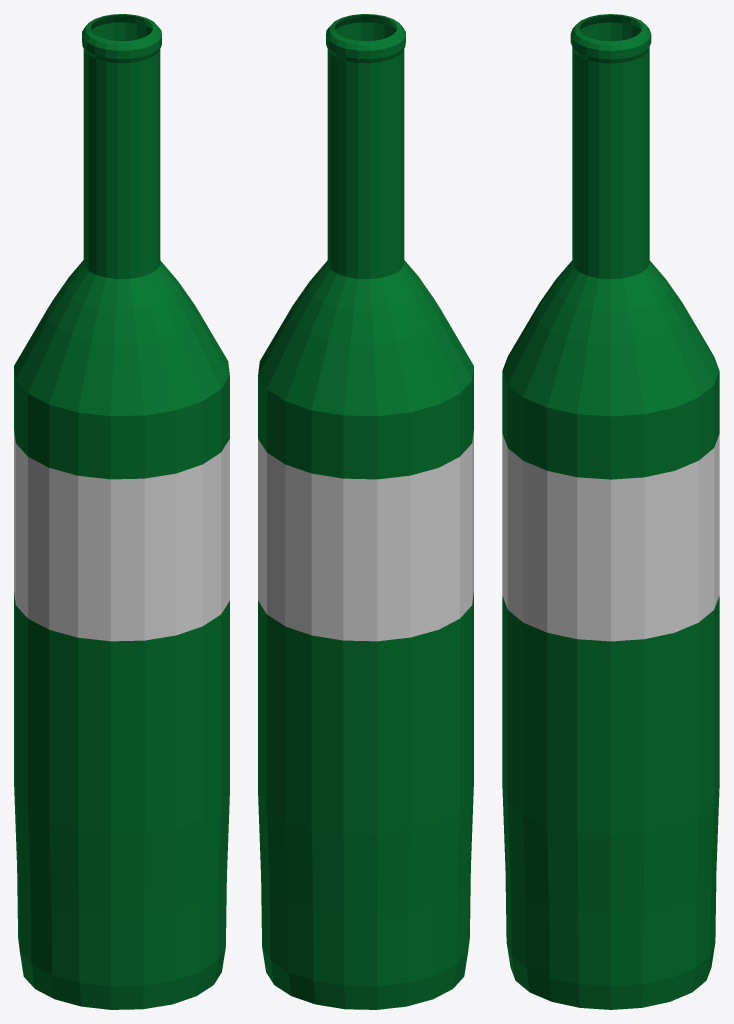
The model's file is Vine_Bottle.fbx.
3 renders of one model, left to right at view 1: azimuth 30°, elevation 25°; view 2: azimuth 150°, elevation 25°; view 3: azimuth 270°, elevation 25°, orthographic.
Parts seen in each view (by area): view 1: Vine_Bottle; view 2: Vine_Bottle; view 3: Vine_Bottle.
Boxes of the visible parts, left/top/right/bottom form: Vine_Bottle: left=14, top=14, right=229, bottom=1009; Vine_Bottle: left=258, top=14, right=473, bottom=1009; Vine_Bottle: left=502, top=14, right=719, bottom=1009.
Size of the model in its own units: 42.7 by 204 by 42.7.
